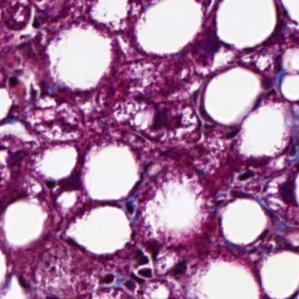inflammation: (134, 87, 203, 144), (120, 238, 185, 294)
